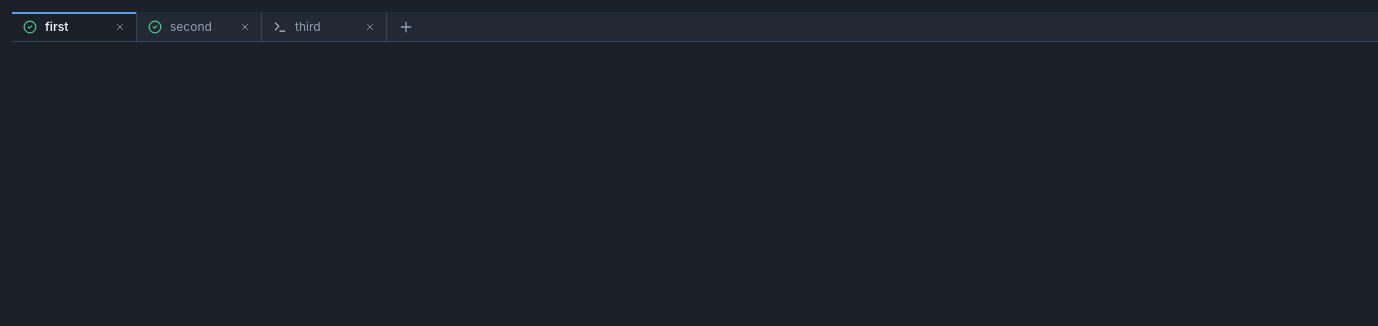
it: WorkspaceTabStrip › cancels on Escape, retaining tab order
Press the mouse on the button "first" at (60, 26), box 12,12 -> 109,41
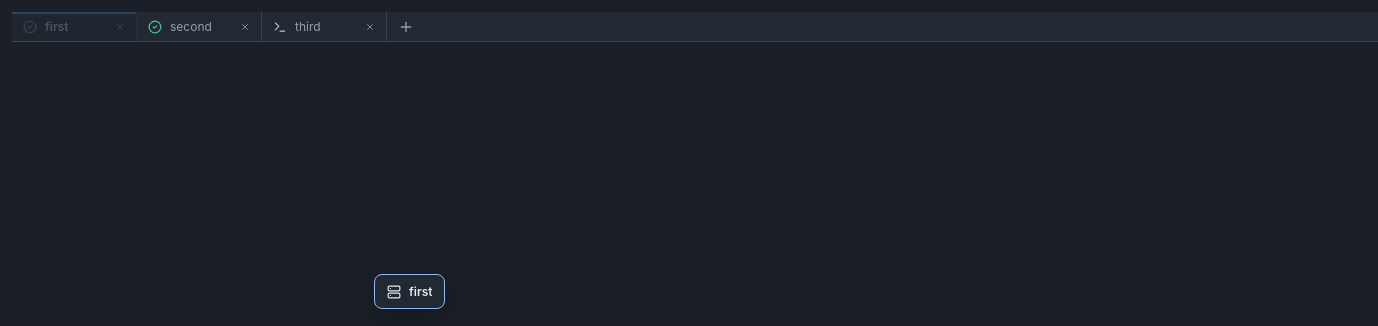
Press Escape
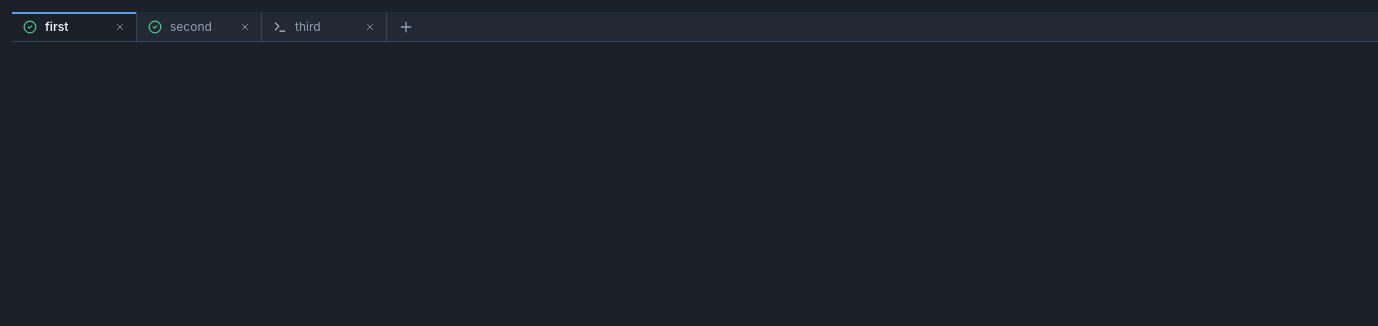
Expected: the element with class "tab-drag-overlay" is gone
